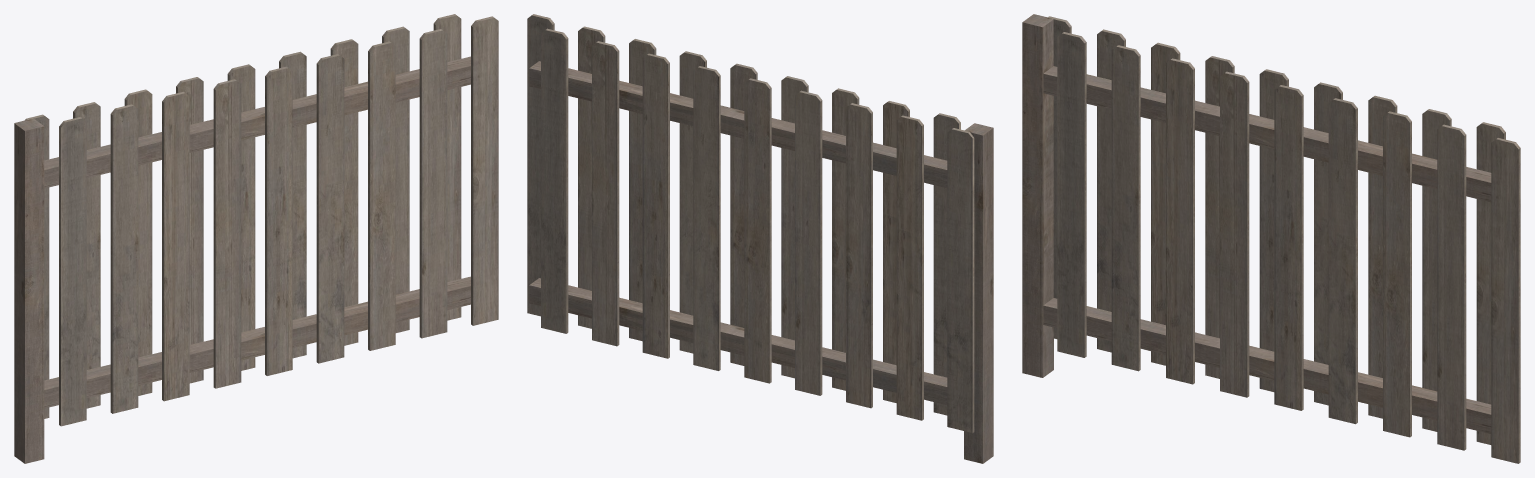
Rendered from SM_Fence_Quart_01.glb.
3 views of the same model, side by side, from view 1: azimuth 30°, elevation 25°; view 2: azimuth 150°, elevation 25°; view 3: azimuth 330°, elevation 25° (orthographic). The views are drawn at different scales.
Visible parts, largest first — view 1: SM_Fence_Quart_01; view 2: SM_Fence_Quart_01; view 3: SM_Fence_Quart_01.
Part boxes in pixels (x1=…): SM_Fence_Quart_01: x1=14, y1=14, x2=498, y2=463; SM_Fence_Quart_01: x1=527, y1=14, x2=993, y2=463; SM_Fence_Quart_01: x1=1022, y1=14, x2=1520, y2=463.
Size of the model in its own units: 3.14 by 2.12 by 0.1579.
1 material, 1 textured.
